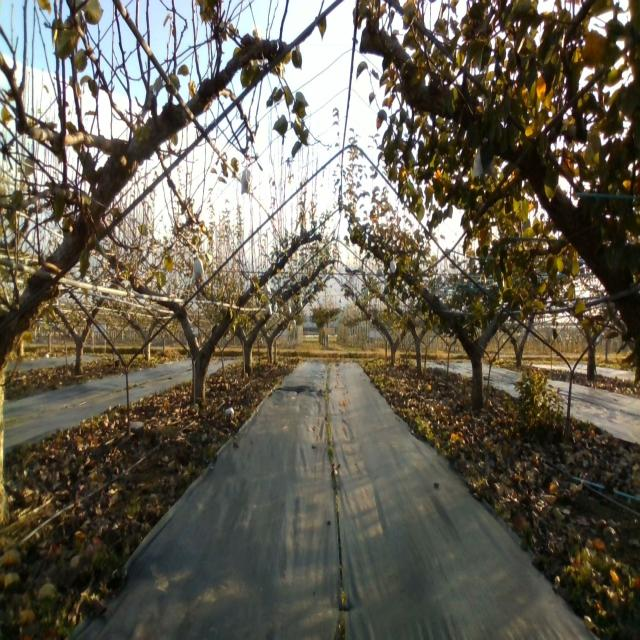pearbags: (191, 252, 206, 283), (240, 162, 253, 196)
